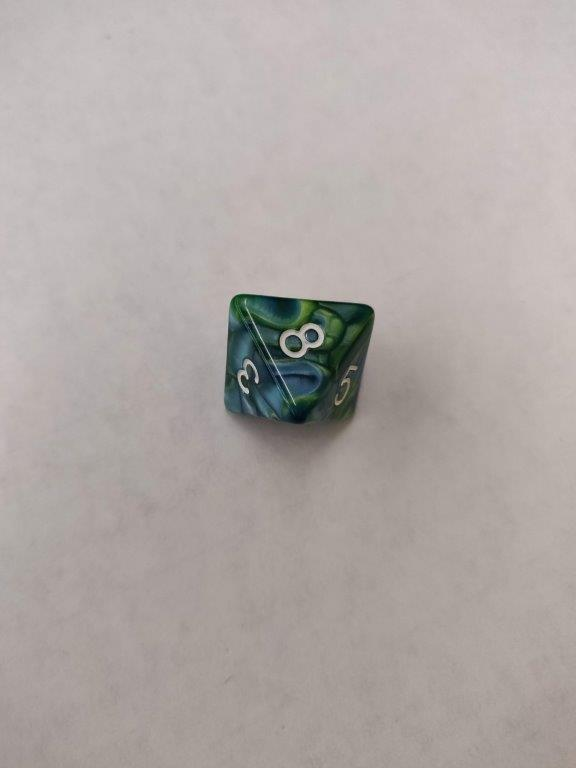d8-8: (219, 291, 375, 426)
